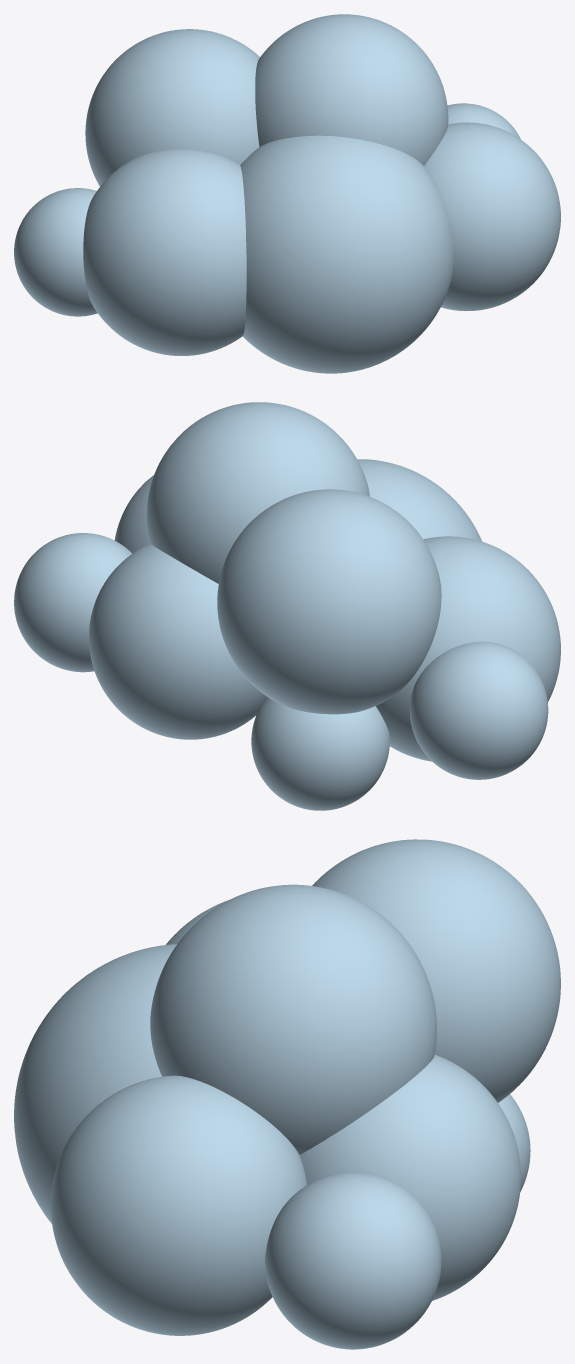
The model's file is Cloud.glb.
The picture shows the model from 3 angles, top to bottom: view 1: azimuth 30°, elevation 25°; view 2: azimuth 150°, elevation 25°; view 3: azimuth 270°, elevation 25°; orthographic projection. The views are drawn at different scales.
Parts seen in each view (by area): view 1: Sphere.009; view 2: Sphere.009; view 3: Sphere.009.
Boxes of the visible parts, <box> form: Sphere.009: <box>14,14,560,373</box>; Sphere.009: <box>14,402,560,810</box>; Sphere.009: <box>14,839,560,1349</box>.
Bounding box in the file's own units: 4.99 × 2.92 × 3.52.
